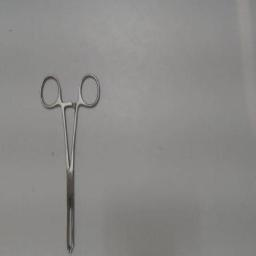Allis Tissue Forceps: (35, 67, 103, 255)
